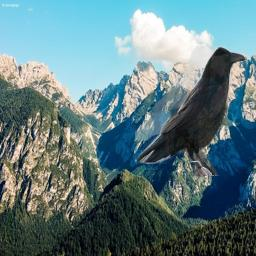Crow: (135, 46, 246, 176)
